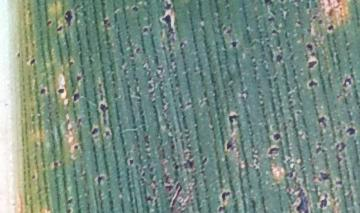tarspot: (296, 187, 310, 213), (160, 13, 174, 33), (98, 103, 110, 126), (63, 9, 74, 28), (183, 158, 195, 172), (221, 190, 231, 206), (225, 139, 237, 152), (267, 146, 280, 158), (316, 114, 327, 128), (319, 192, 328, 209), (344, 126, 356, 138), (228, 114, 240, 125), (335, 141, 346, 153), (97, 83, 104, 101), (319, 170, 330, 181), (342, 76, 352, 88), (307, 59, 317, 69), (163, 1, 173, 11), (72, 92, 81, 103), (305, 42, 314, 53), (307, 79, 318, 88), (272, 132, 282, 141), (230, 40, 239, 49), (74, 75, 83, 84), (90, 126, 98, 136), (216, 205, 226, 213), (314, 146, 322, 156), (103, 129, 111, 138), (275, 54, 283, 63), (96, 175, 103, 185), (261, 1, 274, 6), (44, 19, 52, 27), (29, 58, 37, 66), (326, 24, 334, 32), (56, 24, 63, 33), (201, 156, 208, 165), (57, 88, 65, 95), (39, 88, 47, 95), (131, 5, 139, 12), (146, 195, 153, 203), (67, 60, 74, 67), (52, 160, 59, 167), (66, 198, 73, 205), (142, 27, 149, 34), (271, 29, 278, 36), (295, 19, 302, 26), (15, 51, 21, 59), (173, 163, 179, 171), (335, 180, 343, 186), (135, 47, 141, 55), (128, 159, 134, 166), (267, 16, 274, 22), (179, 41, 185, 48), (305, 27, 312, 33), (305, 1, 310, 9), (66, 207, 72, 213), (226, 28, 232, 34), (336, 156, 342, 162), (148, 26, 153, 33), (103, 18, 108, 25), (73, 145, 79, 150), (170, 144, 175, 150), (167, 186, 173, 191), (31, 174, 35, 180), (278, 1, 285, 4), (318, 19, 322, 24), (312, 15, 316, 20), (335, 1, 341, 4)
